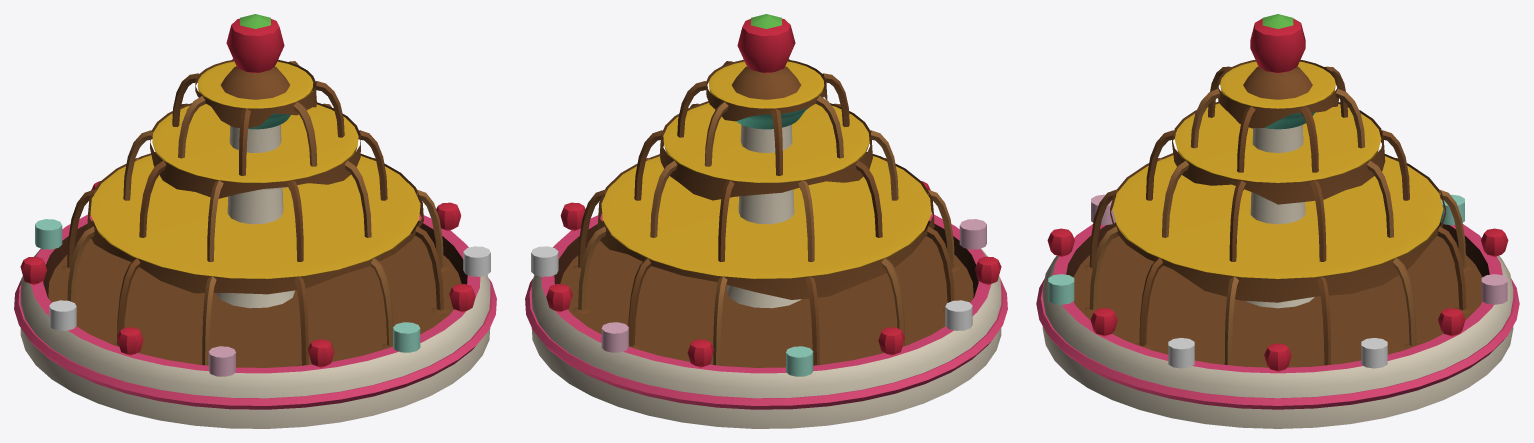
File: fountain.glb
3 views of the same model, side by side, from view 1: azimuth 30°, elevation 25°; view 2: azimuth 150°, elevation 25°; view 3: azimuth 270°, elevation 25° (orthographic).
Parts seen in each view (by area): view 1: fountain; view 2: fountain; view 3: fountain.
Boxes of the visible parts, x1,y1,x2,y2 form: fountain: [14, 14, 496, 428]; fountain: [525, 14, 1007, 428]; fountain: [1036, 14, 1519, 428].
Size of the model in its own units: 5.96 by 4.27 by 5.96.
